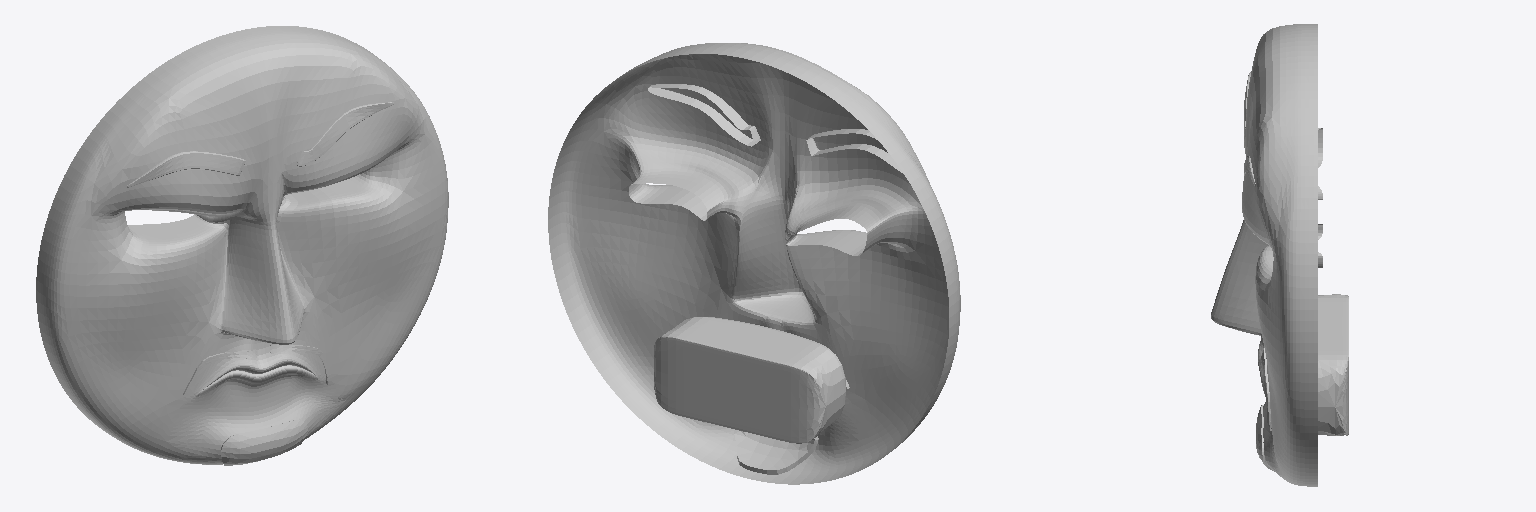
File: Cross.obj
3 views of the same model, side by side, from view 1: azimuth 30°, elevation 25°; view 2: azimuth 150°, elevation 25°; view 3: azimuth 270°, elevation 25° (orthographic).
Visible parts, largest first — view 1: Circle.009_Circle.019; view 2: Circle.009_Circle.019; view 3: Circle.009_Circle.019.
Part boxes in pixels (x1,y1,x2,y2): Circle.009_Circle.019: (36, 26, 448, 465); Circle.009_Circle.019: (548, 43, 960, 484); Circle.009_Circle.019: (1211, 24, 1348, 486).
Bounding box in the file's own units: 50.64 × 50.76 × 15.12.